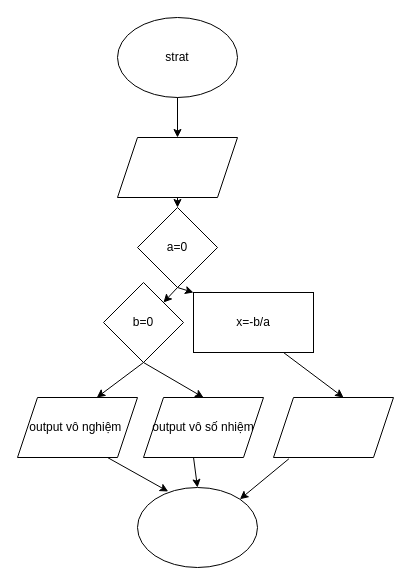
Image size: 411x585. Some labels were removed from this diagram. Each missing label, with the centre of its shape:
"end" belongs at (x=197, y=527).
"input a,b" belongs at (x=177, y=167).
"output x" belongs at (x=333, y=427).
